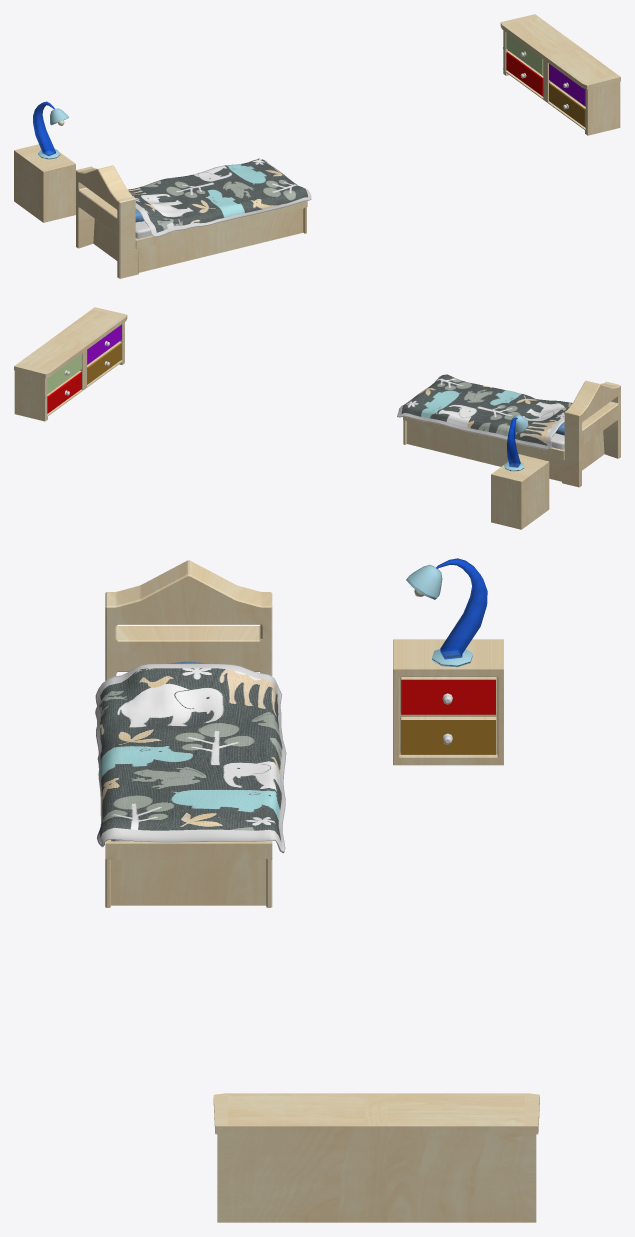
Rendered from camaDanny_mesinha_abajur_comoda.fbx.
3 views of the same model, one above another, from view 1: azimuth 30°, elevation 25°; view 2: azimuth 150°, elevation 25°; view 3: azimuth 270°, elevation 25° (orthographic). The views are drawn at different scales.
Visible parts, largest first — view 1: Cama2, comoda2, coberto1, mesinha2, Abajur2; view 2: Cama2, comoda2, coberto1, mesinha2, Abajur2; view 3: comoda2, coberto1, Cama2, mesinha2, Abajur2.
Part boxes in pixels (<box>): Cama2: <box>76,165,307,278</box>; comoda2: <box>500,14,620,135</box>; coberto1: <box>128,158,311,236</box>; mesinha2: <box>14,144,75,222</box>; Abajur2: <box>33,101,68,159</box>; Cama2: <box>403,380,620,487</box>; comoda2: <box>14,307,127,421</box>; coberto1: <box>397,374,572,449</box>; mesinha2: <box>491,454,549,529</box>; Abajur2: <box>504,415,528,471</box>; comoda2: <box>213,1093,539,1222</box>; coberto1: <box>95,663,286,853</box>; Cama2: <box>105,560,272,907</box>; mesinha2: <box>393,639,503,765</box>; Abajur2: <box>406,558,487,667</box>.
Bounding box in the file's own units: 21.67 × 4.03 × 8.36.
Materials: 13 (4 with a texture image).
